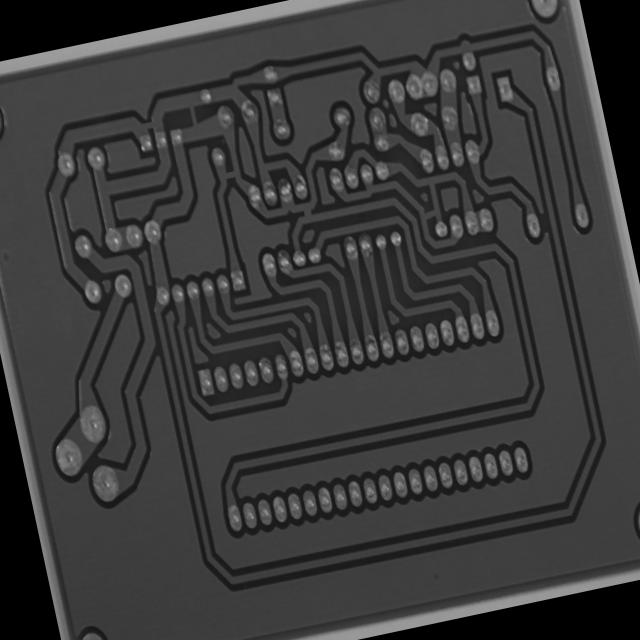short: (214, 151, 244, 194), (133, 108, 164, 146), (415, 198, 445, 234), (178, 99, 206, 133), (293, 196, 320, 229)
